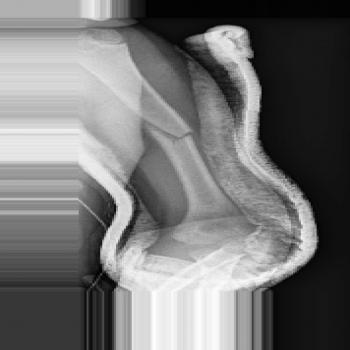Fracture: (149, 120, 198, 146)
